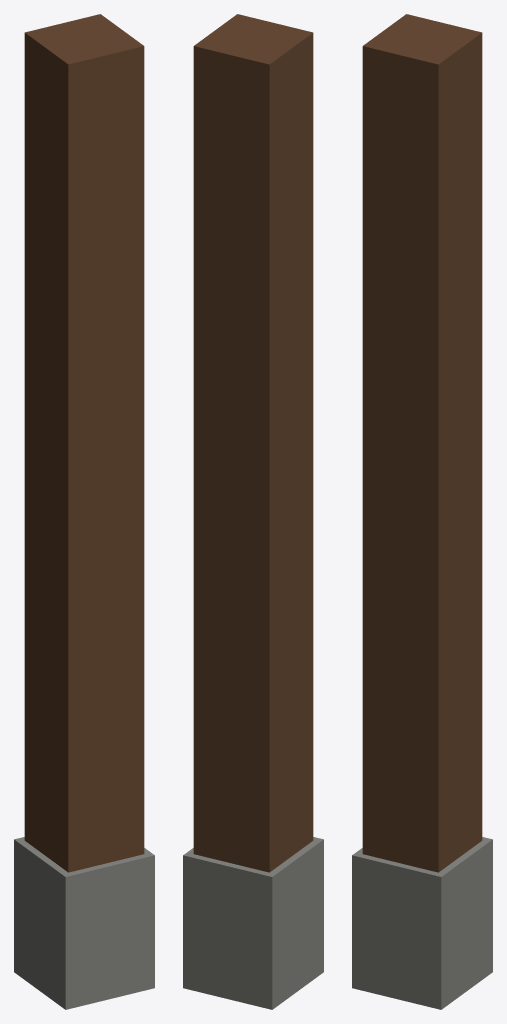
Rendered from Post.fbx.
The picture shows the model from 3 angles, left to right: view 1: azimuth 30°, elevation 25°; view 2: azimuth 150°, elevation 25°; view 3: azimuth 330°, elevation 25°; orthographic projection.
Parts seen in each view (by area): view 1: Post; view 2: Post; view 3: Post.
Boxes of the visible parts, x1,y1,x2,y2 form: Post: [14, 14, 154, 1009]; Post: [183, 14, 323, 1009]; Post: [352, 14, 492, 1009].
Size of the model in its own units: 0.26 by 2.62 by 0.26.
